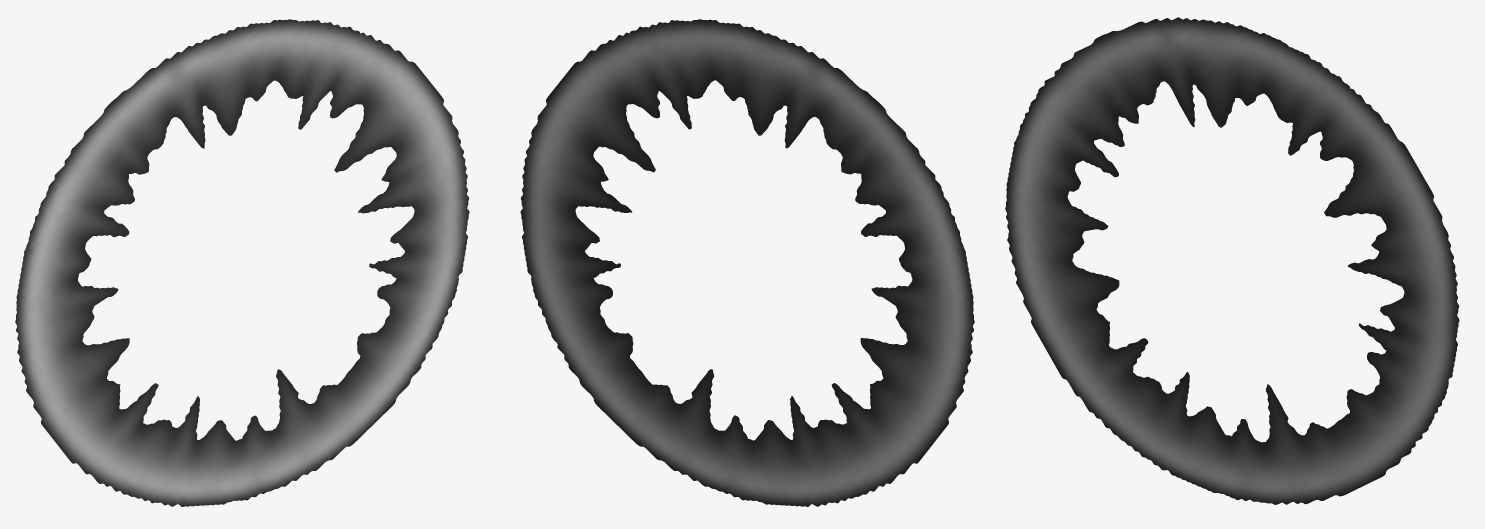
File: shockWave.obj
3 views of the same model, side by side, from view 1: azimuth 30°, elevation 25°; view 2: azimuth 150°, elevation 25°; view 3: azimuth 330°, elevation 25° (orthographic).
Parts seen in each view (by area): view 1: Cube; view 2: Cube; view 3: Cube.
Boxes of the visible parts, x1,y1,x2,y2 form: Cube: (15, 19, 469, 506); Cube: (520, 19, 974, 506); Cube: (1005, 17, 1459, 504).
Bounding box in the file's own units: 5.12 × 5.12 × 0.00274.
